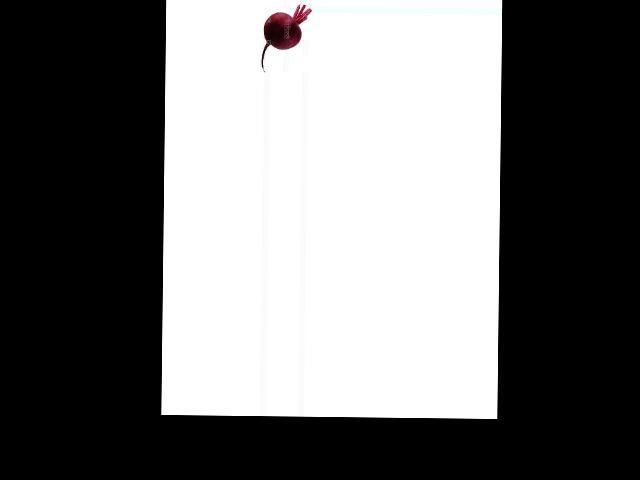beet: (261, 4, 311, 73)
